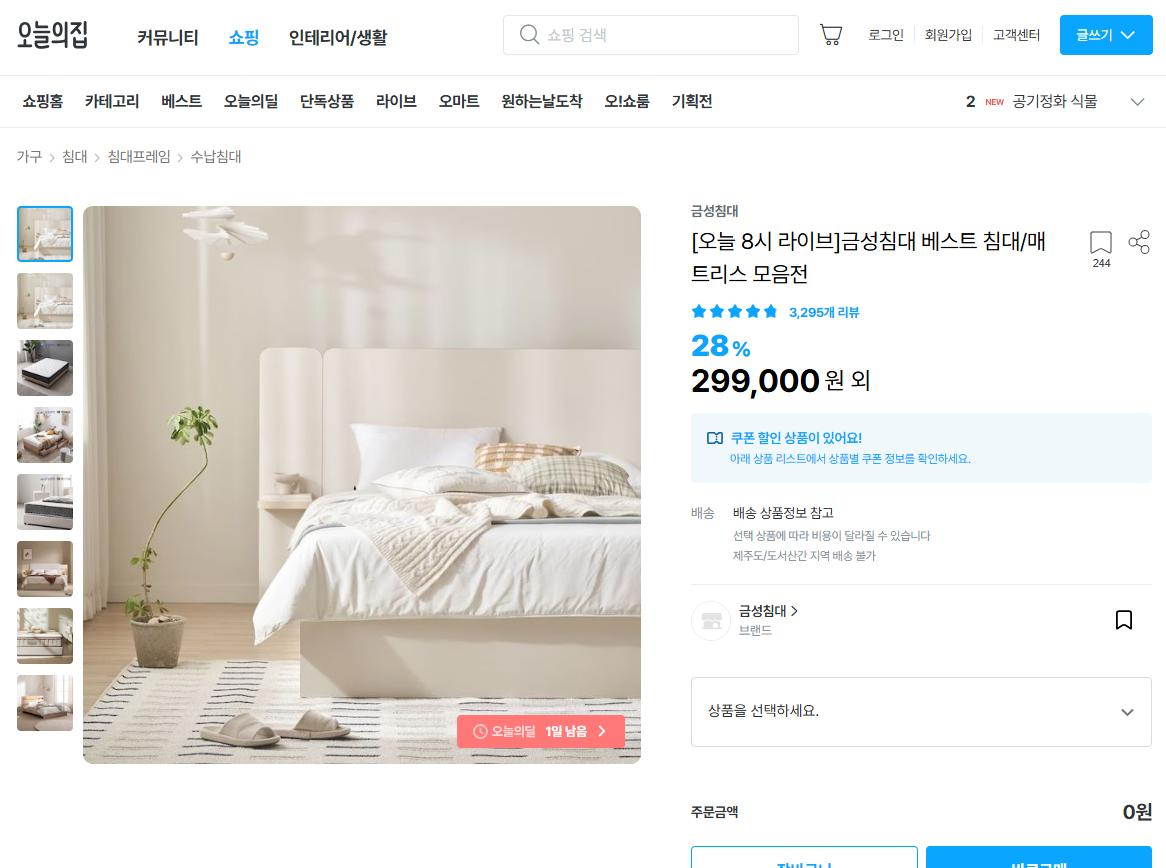button: (693, 674, 1150, 751), (455, 717, 626, 750), (280, 17, 400, 53), (1058, 14, 1154, 57), (496, 85, 587, 118), (594, 84, 658, 116), (215, 89, 283, 118), (135, 28, 208, 53), (297, 88, 362, 115), (1083, 223, 1119, 271), (670, 82, 722, 113), (85, 88, 144, 115), (157, 84, 210, 114), (435, 87, 485, 116), (225, 24, 269, 56), (919, 25, 981, 45), (1127, 221, 1159, 259), (18, 87, 66, 112), (814, 18, 850, 48), (865, 21, 908, 46), (373, 87, 418, 110), (994, 24, 1040, 45), (1111, 607, 1136, 634)
input_field: (503, 12, 798, 59)
